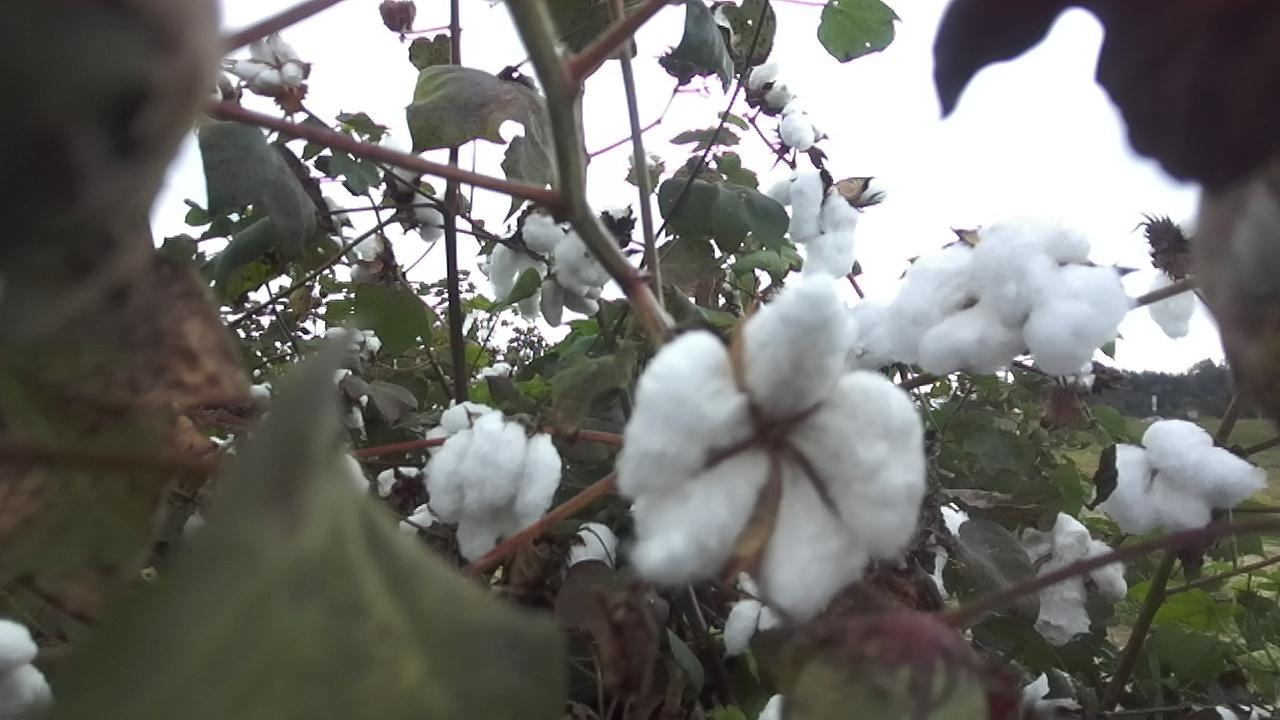cotton_ready: (619, 269, 926, 623), (888, 219, 1126, 374), (426, 412, 563, 560), (1095, 419, 1268, 536), (992, 509, 1129, 647), (1146, 209, 1202, 342), (790, 171, 858, 276), (722, 569, 788, 659), (0, 618, 51, 720), (231, 27, 307, 95), (490, 230, 543, 322), (553, 228, 612, 298), (519, 205, 575, 255), (567, 523, 618, 572)
